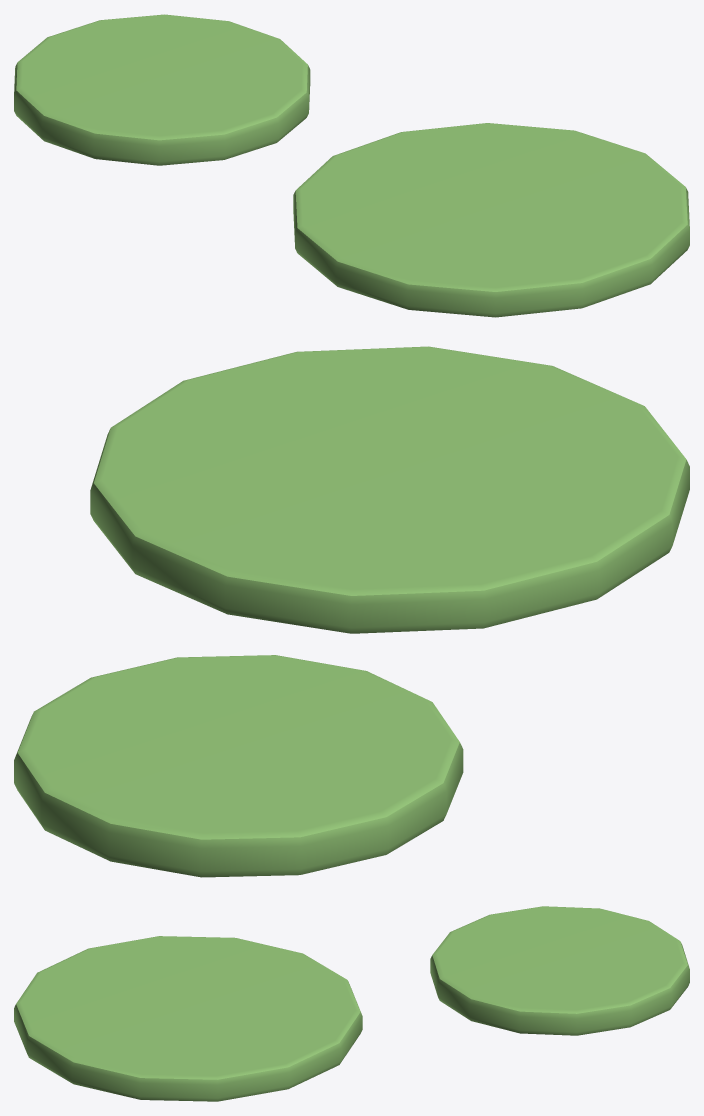
File: prop_lily_b.glb
3 views of the same model, one above another, from view 1: azimuth 30°, elevation 25°; view 2: azimuth 150°, elevation 25°; view 3: azimuth 270°, elevation 25° (orthographic). The views are drawn at different scales.
Visible parts, largest first — view 1: lilyb_p0, lilyb_p1; view 2: lilyb_p0, lilyb_p1; view 3: lilyb_p0, lilyb_p1.
Boxes of the visible parts, x1,y1,x2,y2 form: lilyb_p0: [293, 123, 689, 317]; lilyb_p1: [14, 14, 310, 165]; lilyb_p0: [90, 346, 689, 633]; lilyb_p1: [14, 655, 463, 877]; lilyb_p0: [14, 936, 362, 1101]; lilyb_p1: [430, 906, 689, 1035].
Size of the model in its own units: 0.3689 by 0.025 by 0.6013.
